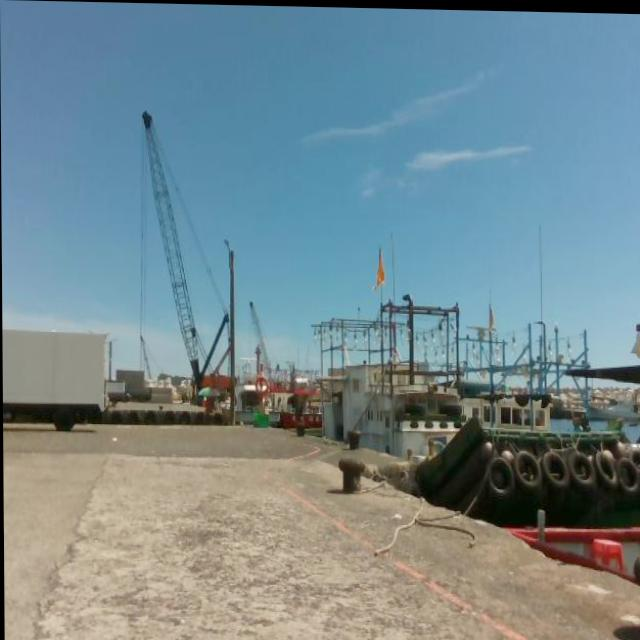pollute: (387, 509, 402, 520), (108, 434, 117, 442)
